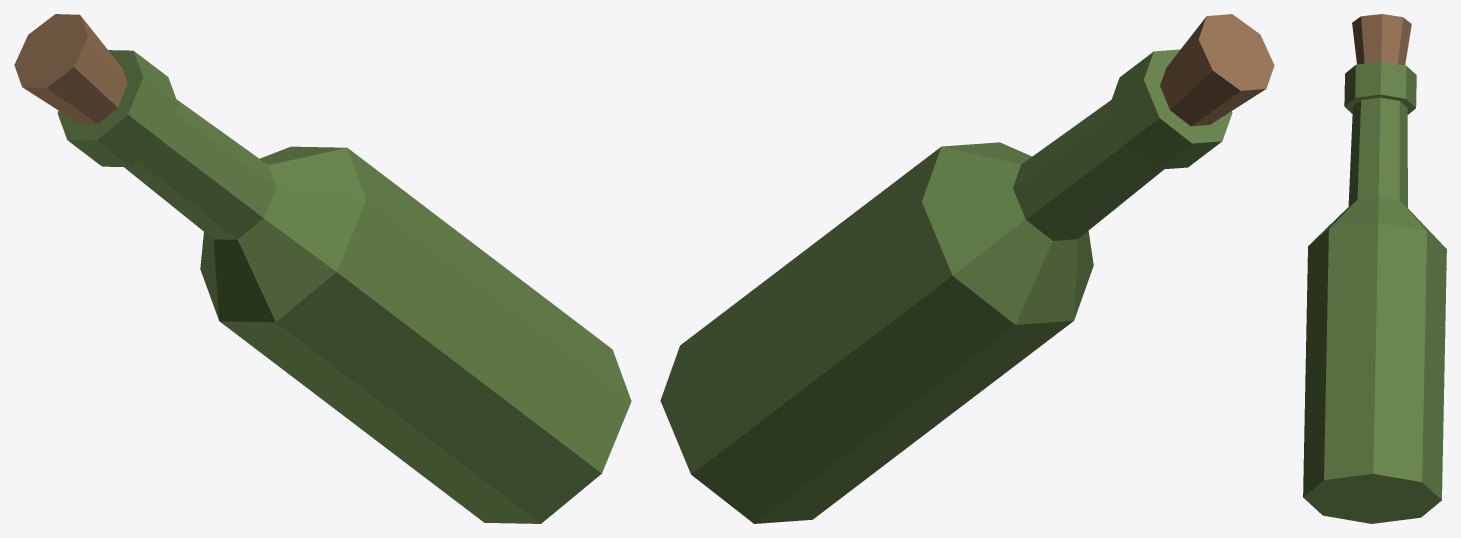
File: Bottle.fbx
3 renders of one model, left to right at view 1: azimuth 30°, elevation 25°; view 2: azimuth 150°, elevation 25°; view 3: azimuth 270°, elevation 25°, orthographic. The views are drawn at different scales.
Visible parts, largest first — view 1: Bottle; view 2: Bottle; view 3: Bottle.
Boxes of the visible parts, <box> form: Bottle: <box>14,14,631,523</box>; Bottle: <box>660,14,1274,523</box>; Bottle: <box>1303,14,1446,523</box>.
Size of the model in its own units: 0.479 by 0.4692 by 0.1586.
